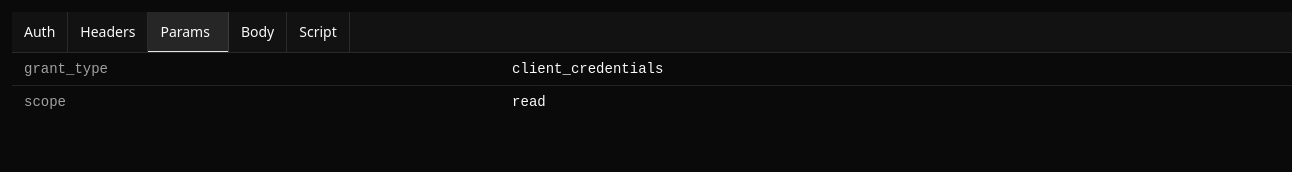
Scenario: RequestPane › should show the params panel by default and the headers panel after clicking Headers
Check: the tab "Auth" is shown, box [12,12,68,52]
Check: the tab "Params" is shown, box [148,12,229,52]
Click the tab "Headers". click: (108, 32)
box: [68,12,148,52]
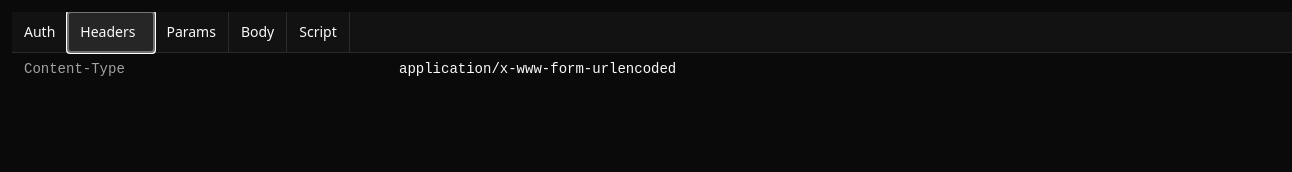
Check: the text "Content-Type" is shown, box [12,53,387,85]
Check: the text "application/x-www-form-urlencoded" is shown, box [387,53,1291,85]
